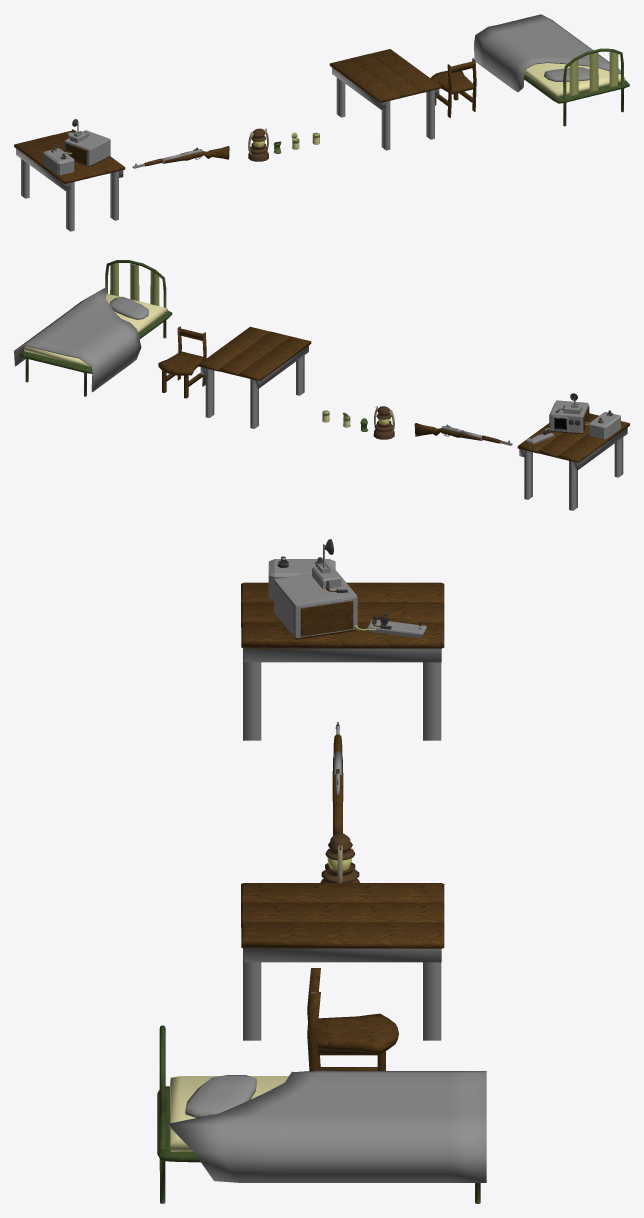
The model's file is AssetsGameJam.fbx.
3 renders of one model, top to bottom at view 1: azimuth 30°, elevation 25°; view 2: azimuth 150°, elevation 25°; view 3: azimuth 270°, elevation 25°, orthographic. The views are drawn at different scales.
Parts seen in each view (by area): view 1: Bed, Telegraph, Table.001, Chair, Rifle, Lamp; view 2: Bed, Telegraph, Table.001, Chair, Rifle, Lamp; view 3: Bed, Telegraph, Table.001, Chair, Lamp, Rifle.
Part boxes in pixels (x1,y1,x2,y2): Bed: [474, 14, 629, 126]; Telegraph: [14, 119, 125, 231]; Table.001: [329, 49, 440, 150]; Chair: [430, 58, 476, 117]; Rifle: [132, 146, 229, 168]; Lamp: [248, 128, 268, 161]; Bed: [14, 260, 172, 396]; Telegraph: [517, 393, 629, 510]; Table.001: [199, 326, 311, 428]; Chair: [158, 326, 206, 398]; Rifle: [414, 423, 512, 445]; Lamp: [373, 406, 394, 439]; Bed: [157, 1025, 486, 1203]; Telegraph: [241, 539, 444, 740]; Table.001: [241, 883, 444, 1040]; Chair: [307, 968, 398, 1070]; Lamp: [320, 830, 359, 882]; Rifle: [332, 722, 343, 835].
Bounding box in the file's own units: 4.29 × 1.12 × 0.6704.
1 material, 1 textured.
